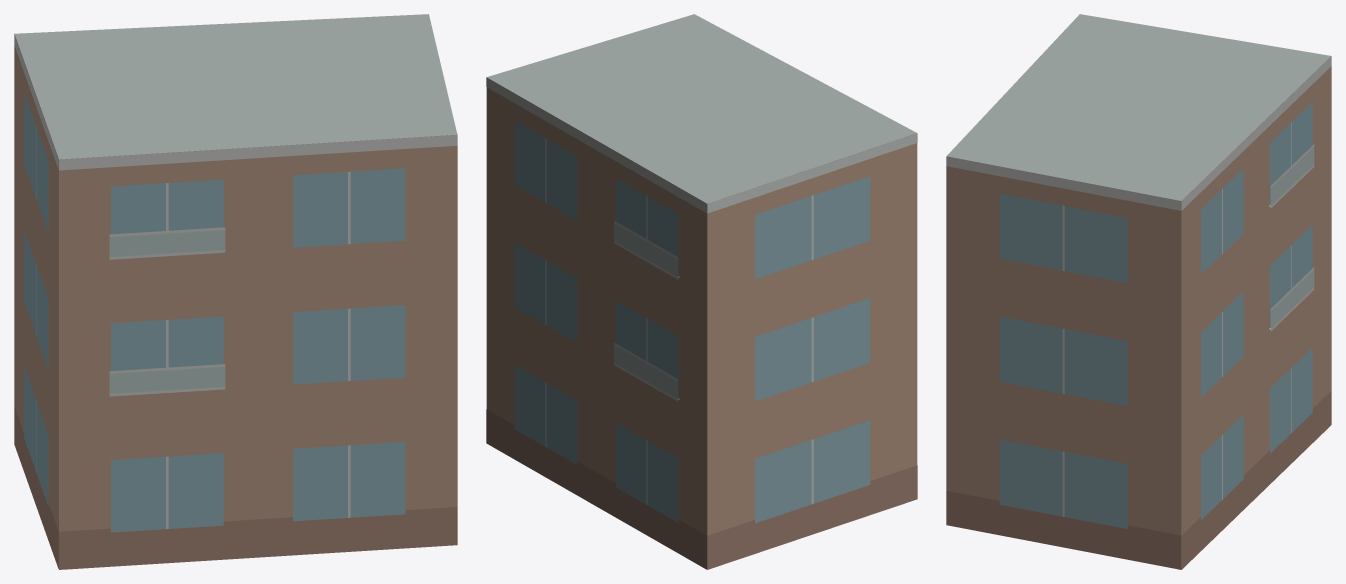
Rendered from survey-upis-32543454.glb.
3 views of the same model, side by side, from view 1: azimuth 30°, elevation 25°; view 2: azimuth 150°, elevation 25°; view 3: azimuth 270°, elevation 25° (orthographic). The views are drawn at different scales.
Visible parts, largest first — view 1: survey-upis-32543454.tmp; view 2: survey-upis-32543454.tmp; view 3: survey-upis-32543454.tmp.
Boxes of the visible parts, x1,y1,x2,y2 form: survey-upis-32543454.tmp: (14, 14, 457, 569); survey-upis-32543454.tmp: (486, 14, 917, 569); survey-upis-32543454.tmp: (946, 14, 1331, 569).
Bounding box in the file's own units: 9.91 × 9.1 × 8.63.
